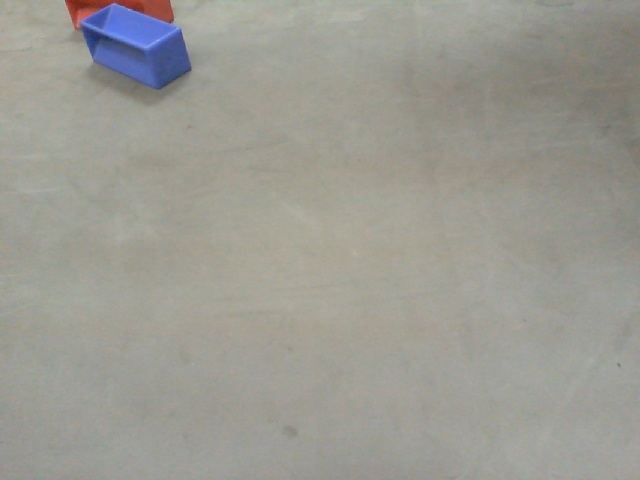BlueSample: (76, 3, 194, 94)
RedSample: (60, 1, 173, 30)
